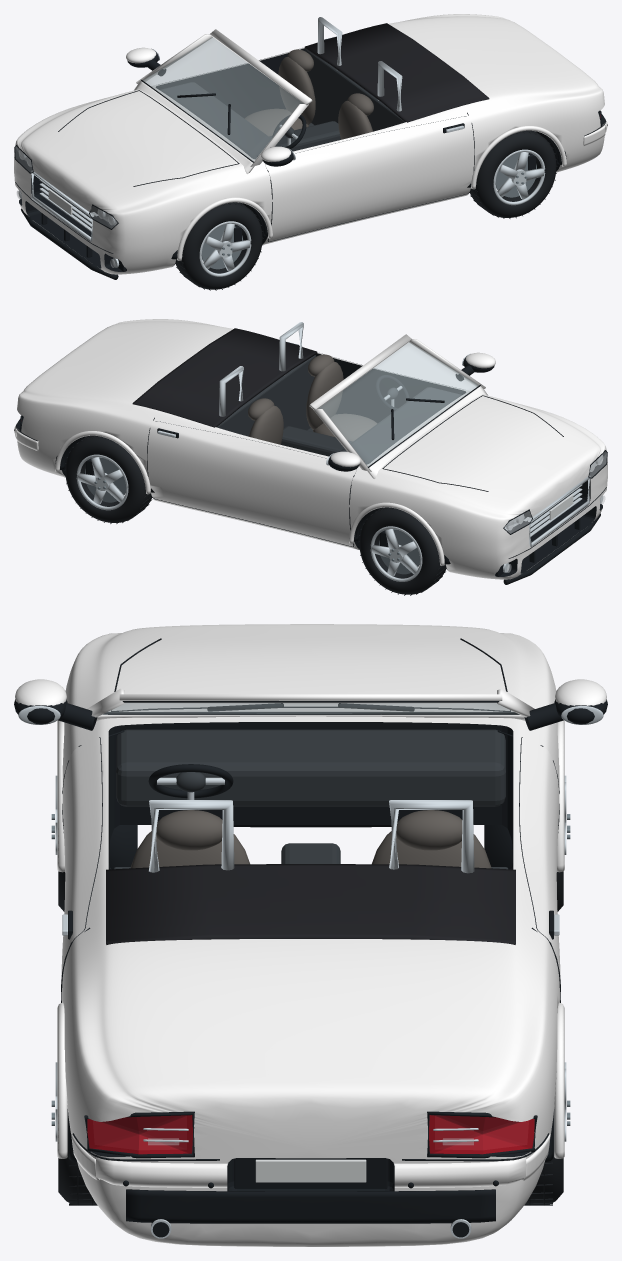
File: convertible.glb
3 views of the same model, one above another, from view 1: azimuth 30°, elevation 25°; view 2: azimuth 150°, elevation 25°; view 3: azimuth 270°, elevation 25° (orthographic). The views are drawn at different scales.
Parts seen in each view (by area): view 1: Original convertible_roadster fourteen-section body shell, Separate closed door panel, Raked transparent windscreen, Folded soft-top fabric boot cover, Original tyre carcass and shaped sidewalls, Original tyre carcass and shaped sidewalls.002, Separate closed door panel.001, Roadster rear cabin bulkhead, Sculpted instrument panel, Contoured seat back.001, Painted windscreen header rail, Center console (+18 smaller); view 2: Original convertible_roadster fourteen-section body shell, Separate closed door panel.001, Raked transparent windscreen, Folded soft-top fabric boot cover, Original tyre carcass and shaped sidewalls.001, Original tyre carcass and shaped sidewalls.003, Separate closed door panel, Roadster rear cabin bulkhead, Sculpted instrument panel, Contoured seat back, Center console, Painted windscreen header rail (+18 smaller); view 3: Original convertible_roadster fourteen-section body shell, Folded soft-top fabric boot cover, Sculpted instrument panel, Sculpted rear lower bumper insert, Separate closed door panel, Separate closed door panel.001, Formed painted rear bumper cover, Raked transparent windscreen, Flush corner wrapping ruby lamp lens, Flush corner wrapping ruby lamp lens.001, Painted windscreen header rail, Rear registration plate (+23 smaller).
Part boxes in pixels (x1,y1,x2,y2): Original convertible_roadster fourteen-section body shell: (14,14,605,274); Separate closed door panel: (265,116,474,241); Raked transparent windscreen: (143,37,303,161); Folded soft-top fabric boot cover: (304,23,489,122); Original tyre carcass and shaped sidewalls: (176,202,262,289); Original tyre carcass and shaped sidewalls.002: (470,130,556,217); Separate closed door panel.001: (160,50,305,118); Roadster rear cabin bulkhead: (306,50,404,131); Sculpted instrument panel: (160,82,282,159); Contoured seat back.001: (278,57,315,124); Painted windscreen header rail: (210,29,312,105); Center console: (269,121,340,151); Original convertible_roadster fourteen-section body shell: (16,319,607,579); Separate closed door panel.001: (147,421,356,546); Raked transparent windscreen: (318,342,478,466); Folded soft-top fabric boot cover: (132,328,317,427); Original tyre carcass and shaped sidewalls.001: (359,507,445,594); Original tyre carcass and shaped sidewalls.003: (65,435,151,522); Separate closed door panel: (316,353,461,423); Roadster rear cabin bulkhead: (217,355,315,436); Sculpted instrument panel: (339,387,461,464); Contoured seat back: (306,362,343,429); Center console: (281,426,352,456); Painted windscreen header rail: (309,334,411,410); Original convertible_roadster fourteen-section body shell: (62,624,559,1246); Folded soft-top fabric boot cover: (106,864,515,944); Sculpted instrument panel: (116,729,505,806); Sculpted rear lower bumper insert: (126,1189,495,1223); Separate closed door panel: (61,737,108,979); Separate closed door panel.001: (513,737,560,979); Formed painted rear bumper cover: (96,1157,525,1187); Raked transparent windscreen: (103,702,518,714); Flush corner wrapping ruby lamp lens: (87,1115,192,1154); Flush corner wrapping ruby lamp lens.001: (429,1115,534,1154); Painted windscreen header rail: (119,694,502,700); Rear registration plate: (255,1159,366,1182).
Bounding box in the file's own units: 4.1 × 1.22 × 2.09.
12 materials, 11 textured.
